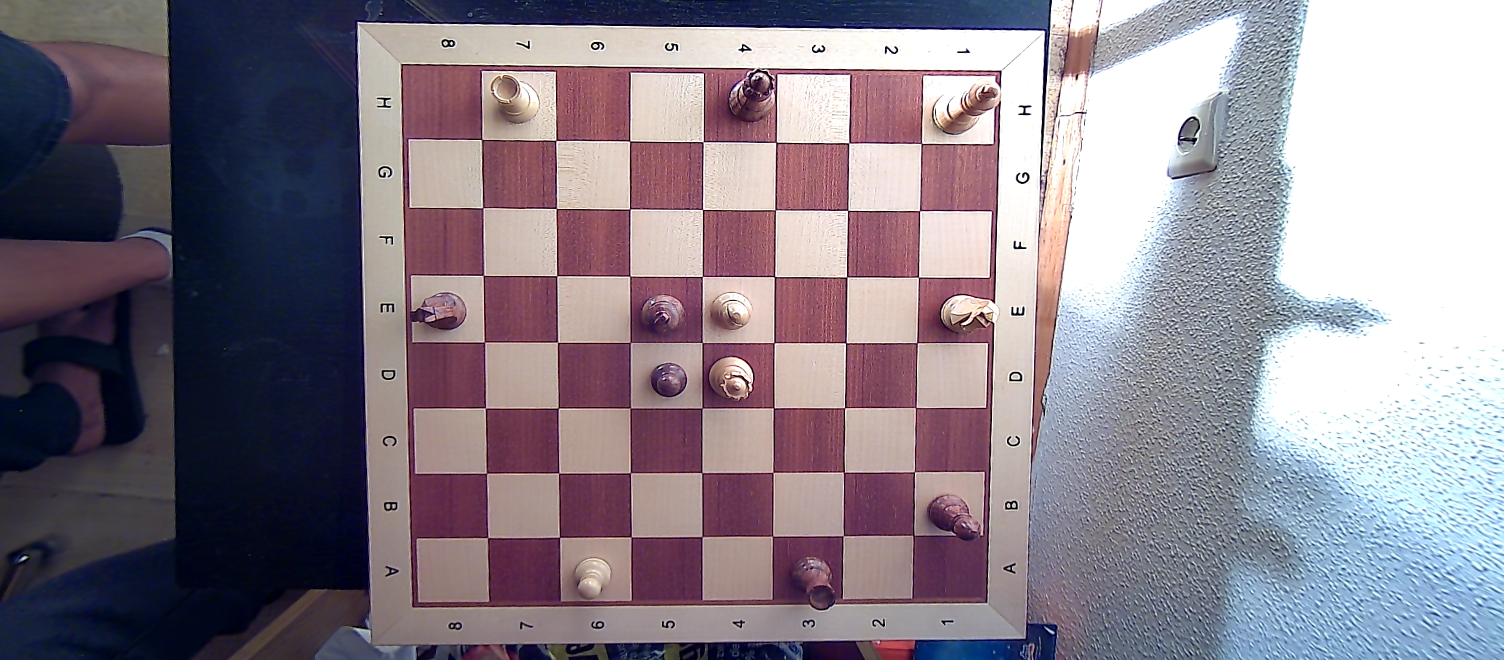black-bishop: (923, 491, 985, 546)
black-king: (637, 287, 693, 339)
black-knight: (408, 284, 472, 336)
black-pawn: (646, 358, 691, 401)
black-queen: (719, 70, 778, 128)
black-rook: (788, 552, 839, 614)
white-bishop: (705, 287, 756, 335)
white-king: (932, 78, 1002, 142)
white-knight: (934, 290, 999, 334)
white-pawn: (566, 553, 615, 603)
white-queen: (708, 351, 756, 401)
white-rook: (487, 69, 547, 128)
